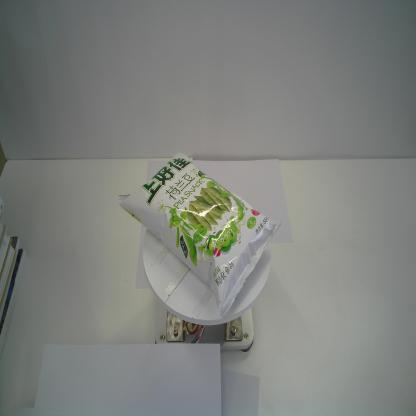Puffed Food: (118, 152, 282, 316)
